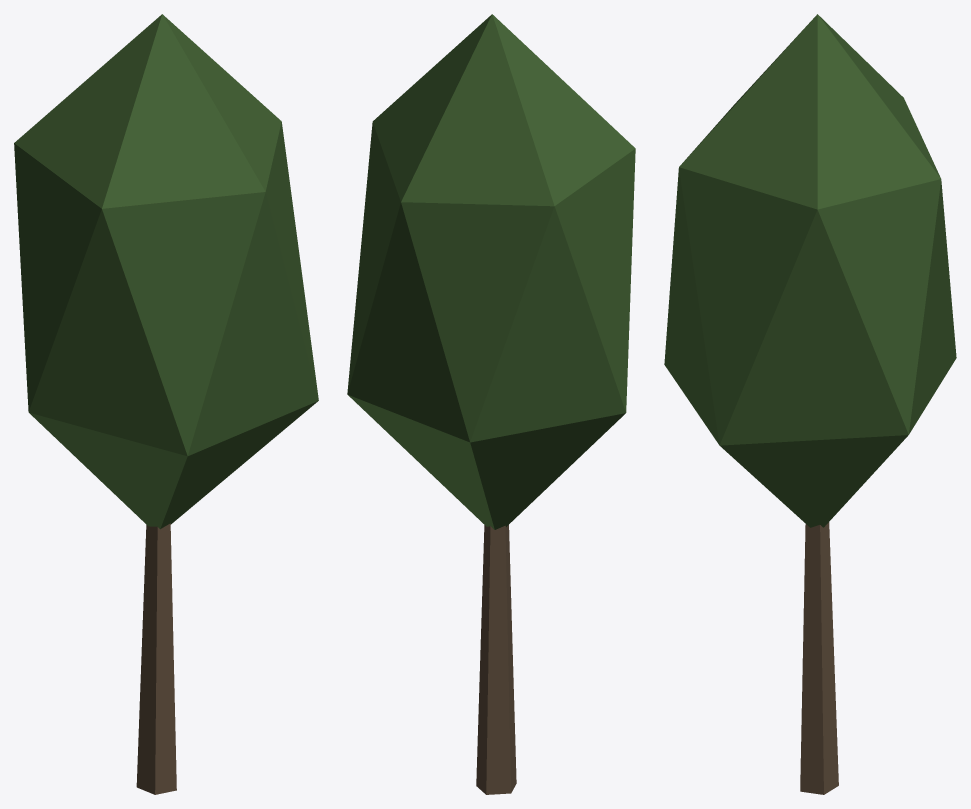
Rendered from upright-lod2.glb.
3 renders of one model, left to right at view 1: azimuth 30°, elevation 25°; view 2: azimuth 150°, elevation 25°; view 3: azimuth 270°, elevation 25°, orthographic.
Visible parts, largest first — view 1: upright_LOD2; view 2: upright_LOD2; view 3: upright_LOD2.
Part boxes in pixels (box(x1,y1,x2,y2)): upright_LOD2: box(14, 14, 318, 794); upright_LOD2: box(347, 14, 635, 794); upright_LOD2: box(664, 14, 956, 794).
Size of the model in its own units: 3.16 by 9.2 by 3.14.
